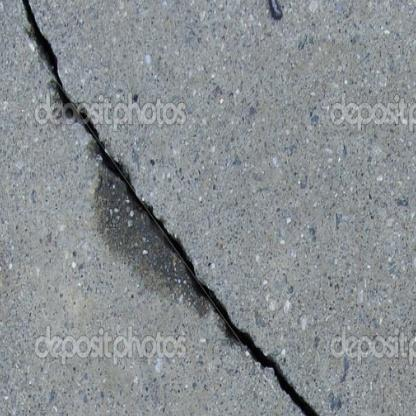Cracks: (16, 0, 333, 416)
